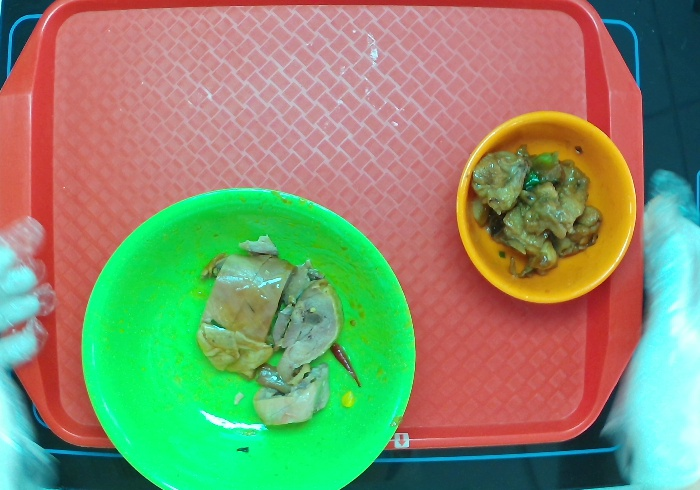YKMZ-Ju_Se_Yuan_Wan: (452, 109, 638, 304)
YKMZ-Lv_Se_Tang_Wan: (78, 176, 420, 488)
